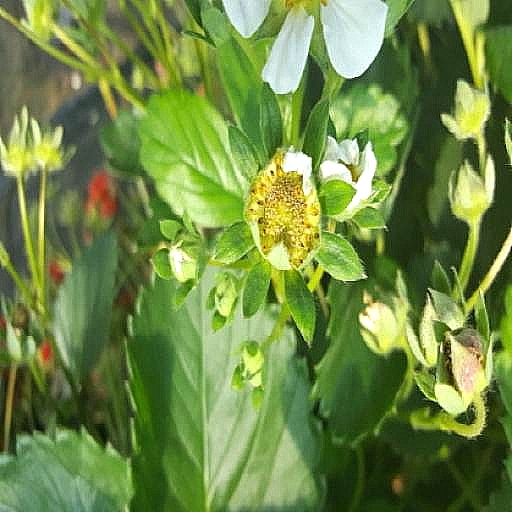Blossom Blight: (191, 244, 269, 362)
